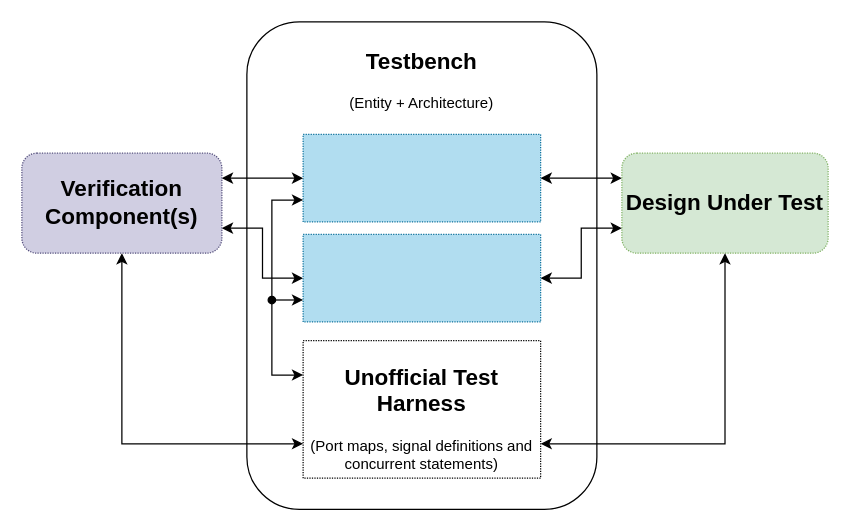
The diagram is 850 pixels wide and 531 high, and some of its shapes have lost their labels. Each missing label, with the box of its shape:
Test Case 1 (Procedure or process): (302, 133, 541, 222)
Test Case 2 (Procedure or process): (302, 233, 541, 322)
